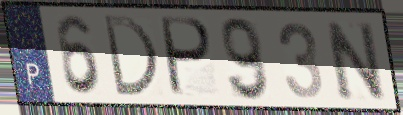3: (277, 19, 324, 100)
6: (55, 12, 102, 98)
9: (217, 15, 271, 103)
D: (100, 13, 162, 100)
N: (322, 18, 389, 103)
P: (160, 15, 215, 100)
